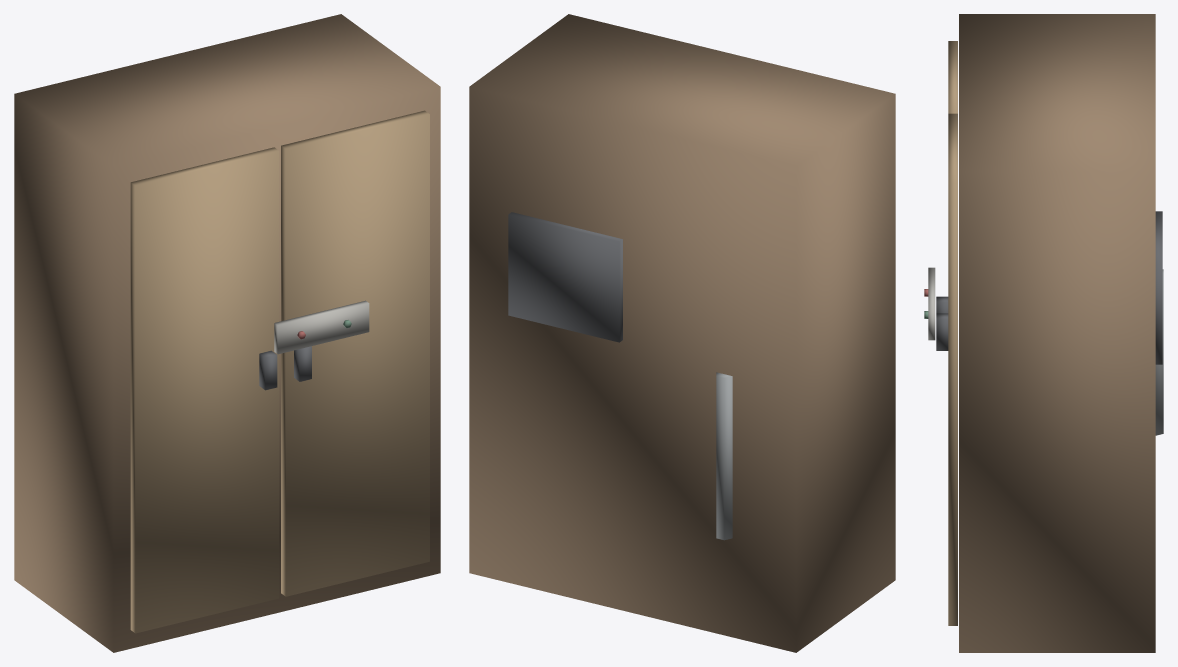
The model's file is evidence_cabinet__service.glb.
3 views of the same model, side by side, from view 1: azimuth 30°, elevation 25°; view 2: azimuth 150°, elevation 25°; view 3: azimuth 270°, elevation 25° (orthographic).
Visible parts, largest first — view 1: world; view 2: world; view 3: world.
Boxes of the visible parts, x1=… form: world: x1=14, y1=14, x2=440, y2=652; world: x1=469, y1=14, x2=895, y2=652; world: x1=924, y1=14, x2=1163, y2=652.
Bounding box in the file's own units: 0.95 × 1.35 × 0.6091.
